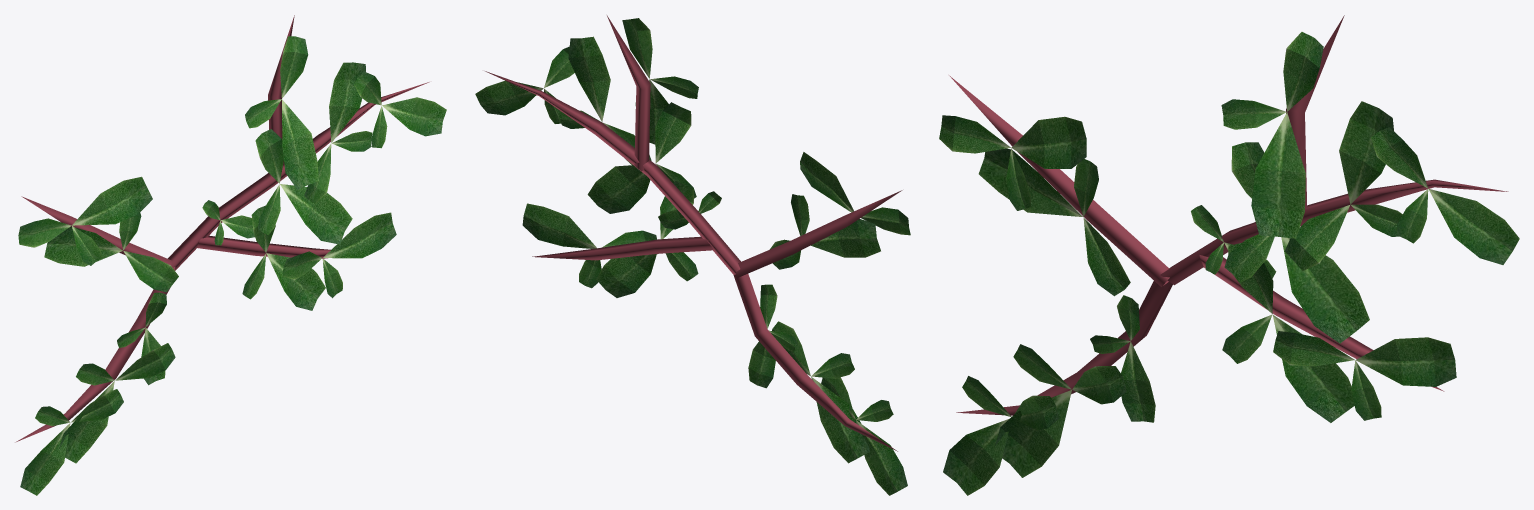
Rendered from portucala_03.obj.
3 views of the same model, side by side, from view 1: azimuth 30°, elevation 25°; view 2: azimuth 150°, elevation 25°; view 3: azimuth 330°, elevation 25° (orthographic). The views are drawn at different scales.
Parts seen in each view (by area): view 1: portucala.002; view 2: portucala.002; view 3: portucala.002.
Part boxes in pixels (left/top/right/bottom): portucala.002: left=15, top=15, right=446, bottom=495; portucala.002: left=475, top=15, right=910, bottom=495; portucala.002: left=939, top=15, right=1519, bottom=495.
Size of the model in its own units: 0.2398 by 0.2209 by 0.0362.
